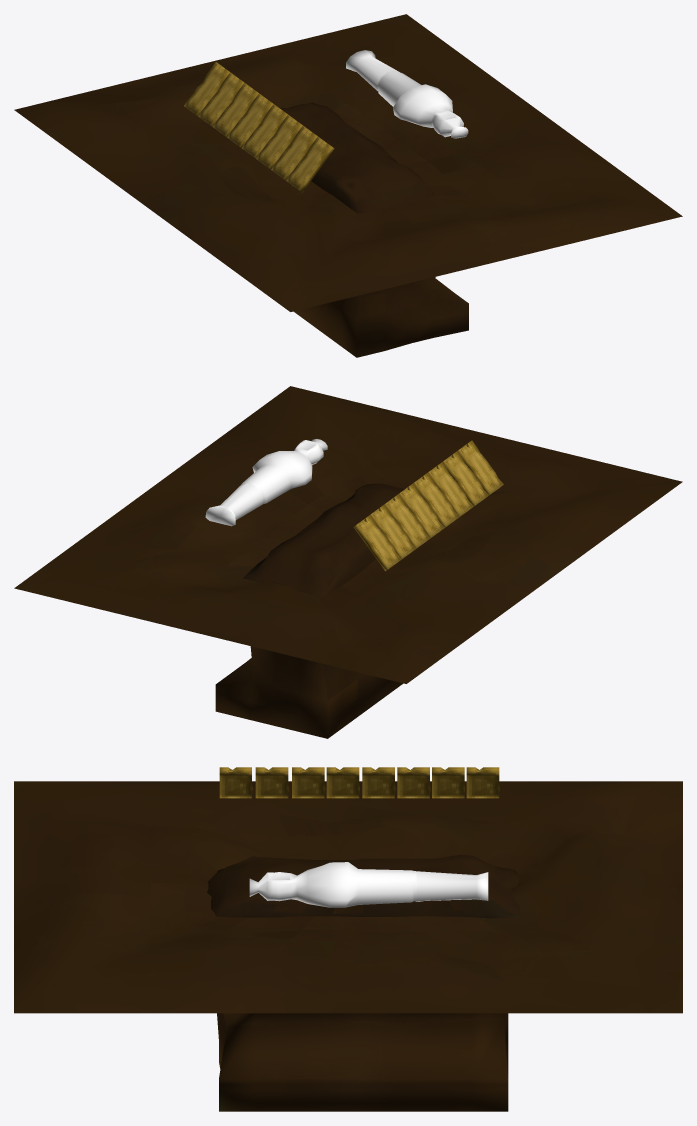
The model's file is animated-CGE2whQq.gltf.
3 views of the same model, one above another, from view 1: azimuth 30°, elevation 25°; view 2: azimuth 150°, elevation 25°; view 3: azimuth 270°, elevation 25° (orthographic). The views are drawn at different scales.
Visible parts, largest first — view 1: plane, hole, planks, tanah, cylinder; view 2: plane, hole, planks, tanah, cylinder; view 3: plane, hole, tanah, planks, cylinder.
Boxes of the visible parts, x1,y1,x2,y2 form: plane: [14, 14, 682, 311]; hole: [294, 277, 468, 357]; planks: [184, 62, 334, 192]; tanah: [280, 102, 435, 213]; cylinder: [346, 50, 468, 138]; plane: [14, 386, 682, 683]; hole: [215, 646, 403, 738]; planks: [353, 440, 503, 571]; tanah: [243, 483, 404, 596]; cylinder: [205, 439, 327, 526]; plane: [14, 781, 682, 1013]; hole: [217, 1013, 508, 1111]; tanah: [207, 855, 519, 918]; planks: [219, 767, 499, 798]; cylinder: [249, 862, 488, 907].
Size of the model in its own units: 5.69 by 3.01 by 6.94.
5 materials, 5 textured.
